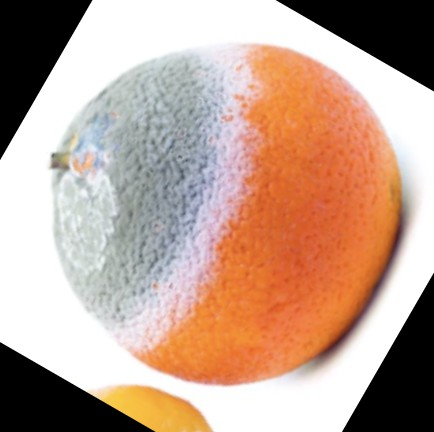rotten_orange: (51, 43, 404, 386)
